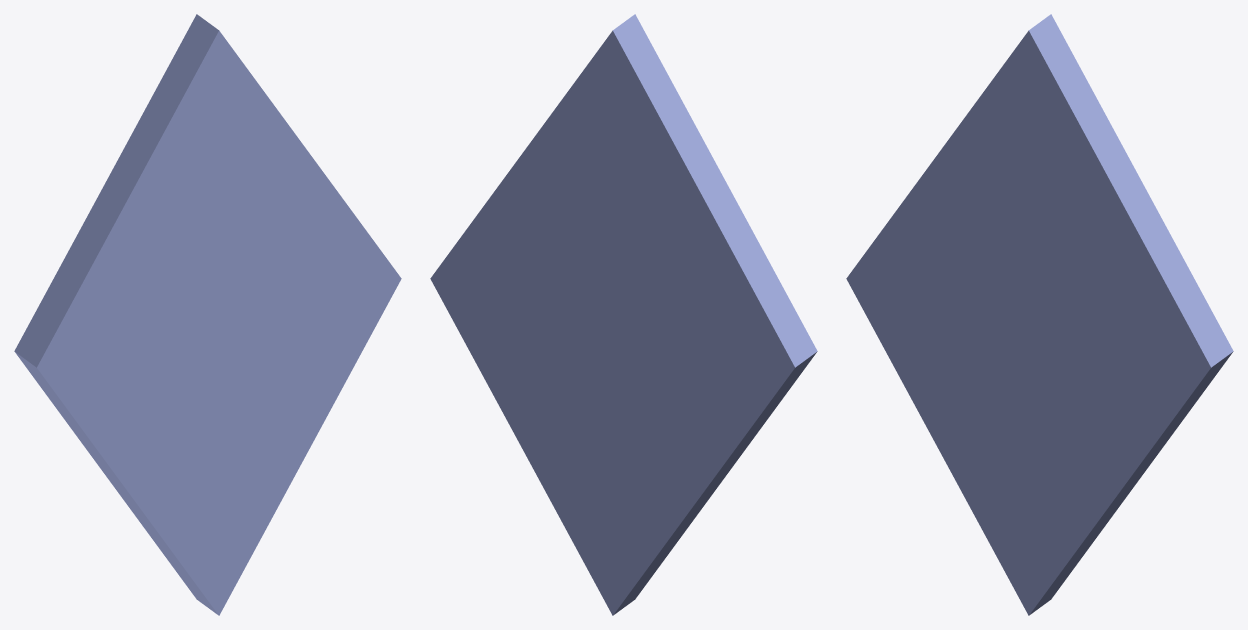
File: badge_buzz.glb
3 renders of one model, left to right at view 1: azimuth 30°, elevation 25°; view 2: azimuth 150°, elevation 25°; view 3: azimuth 330°, elevation 25°, orthographic.
Visible parts, largest first — view 1: badge; view 2: badge; view 3: badge.
Boxes of the visible parts, left/top/right/bottom form: badge: left=14, top=14, right=401, bottom=615; badge: left=430, top=14, right=817, bottom=615; badge: left=846, top=14, right=1233, bottom=615.
Bounding box in the file's own units: 1.5 × 2.3 × 0.16.
